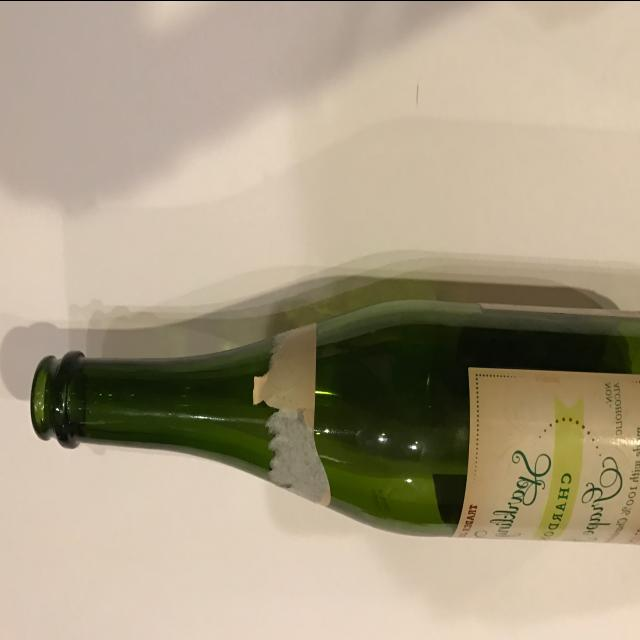glass: (30, 292, 640, 551)
